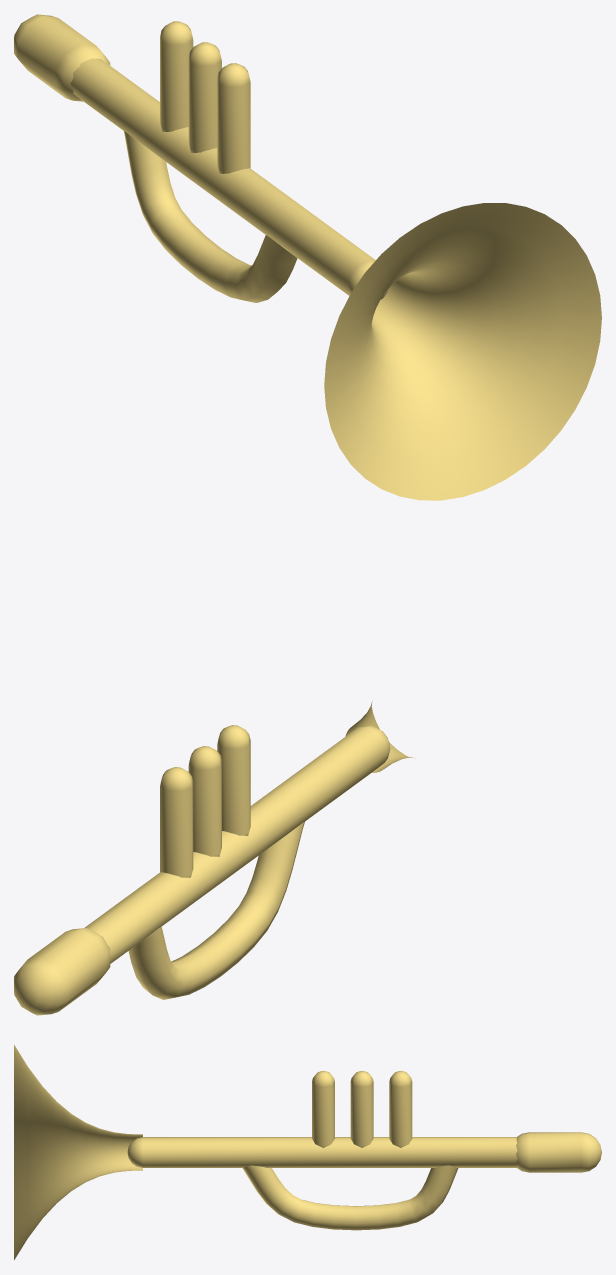
Rendered from SM_Trumpet.glb.
3 views of the same model, one above another, from view 1: azimuth 30°, elevation 25°; view 2: azimuth 150°, elevation 25°; view 3: azimuth 270°, elevation 25° (orthographic). The views are drawn at different scales.
Parts seen in each view (by area): view 1: SM_Trumpet; view 2: SM_Trumpet; view 3: SM_Trumpet.
Part boxes in pixels (box(x1,y1,x2,y2)): SM_Trumpet: box(14, 14, 601, 500); SM_Trumpet: box(14, 701, 415, 1015); SM_Trumpet: box(14, 1045, 601, 1259).
Size of the model in its own units: 0.168 by 0.168 by 0.456.
